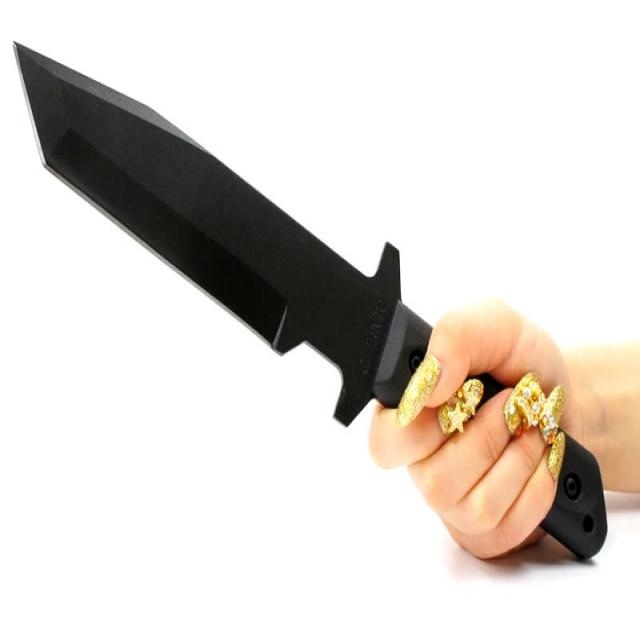knife: (12, 36, 618, 566)
